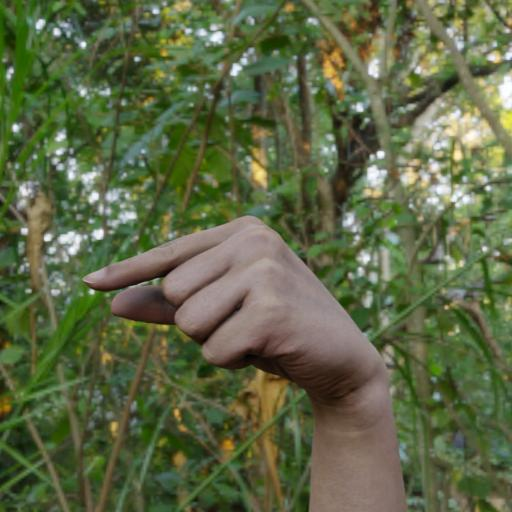G: (77, 205, 402, 413)
